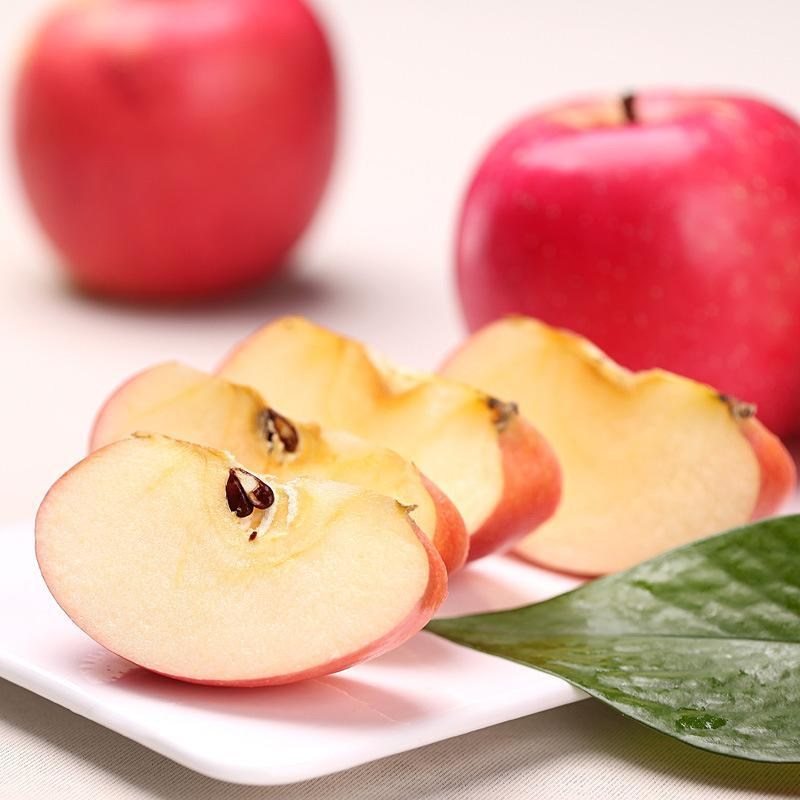apple: (441, 89, 800, 440), (4, 10, 341, 315)
